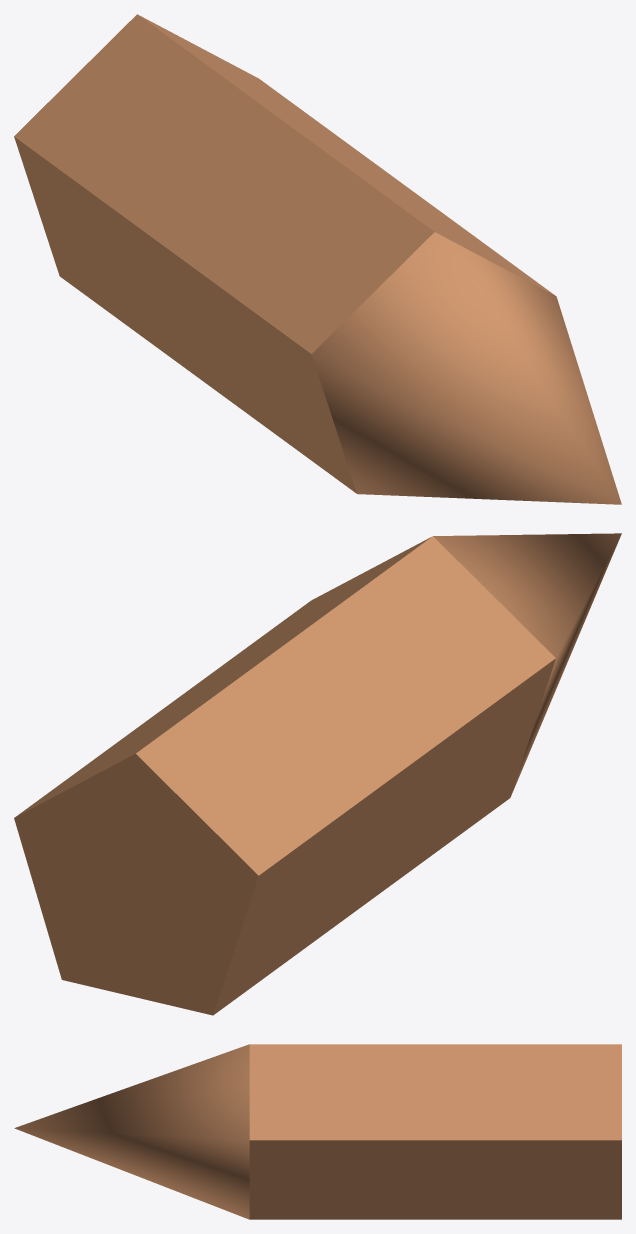
The model's file is Bullet.fbx.
The picture shows the model from 3 angles, top to bottom: view 1: azimuth 30°, elevation 25°; view 2: azimuth 150°, elevation 25°; view 3: azimuth 270°, elevation 25°; orthographic projection. The views are drawn at different scales.
Visible parts, largest first — view 1: pCylinder1; view 2: pCylinder1; view 3: pCylinder1.
Boxes of the visible parts, x1,y1,x2,y2 form: pCylinder1: [14, 14, 621, 504]; pCylinder1: [14, 533, 621, 1015]; pCylinder1: [14, 1044, 621, 1219].
Bounding box in the file's own units: 0.2615 × 0.2494 × 0.898.
